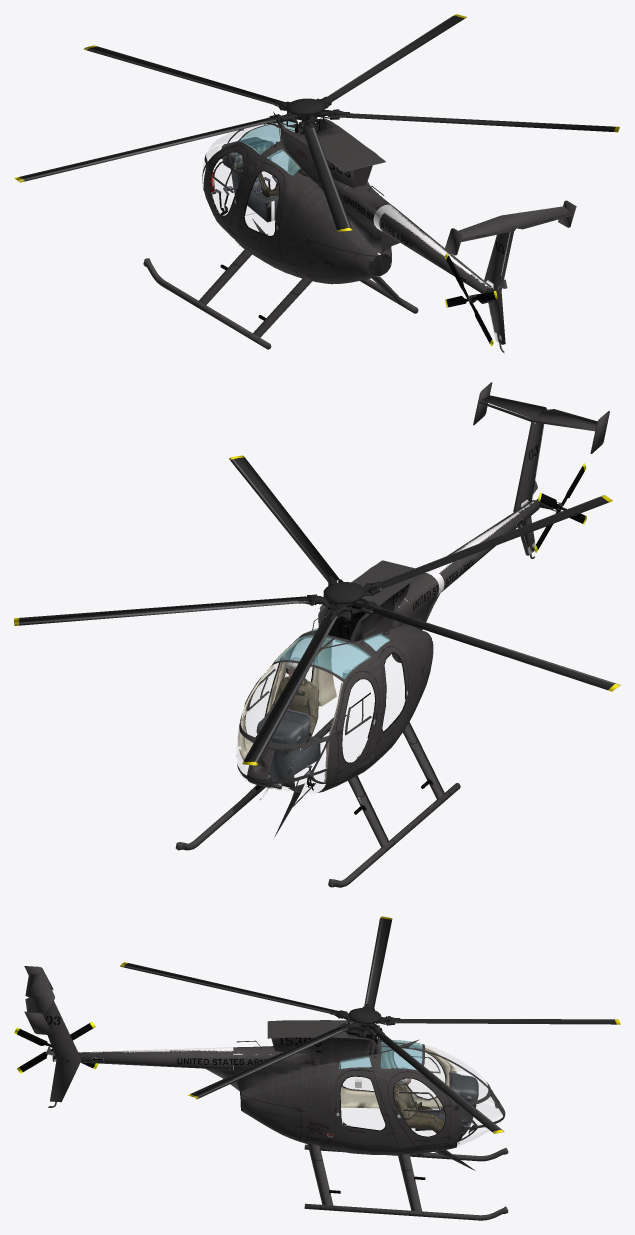
3 renders of one model, top to bottom at view 1: azimuth 30°, elevation 25°; view 2: azimuth 150°, elevation 25°; view 3: azimuth 270°, elevation 25°, orthographic. The views are drawn at different scales.
Parts seen in each view (by area): view 1: ext_fuselage1, rotor_main, ext_tail, ext_fuselage2, int_console, glasss_grn, rotor_tail, glass; view 2: rotor_main, ext_fuselage1, ext_fuselage2, ext_tail, int_fuselage1, int_console, glasss_grn, int_pilotR, glass, rotor_tail; view 3: ext_fuselage1, rotor_main, ext_tail, ext_fuselage2, int_fuselage1, glass, int_pilotR, glasss_grn, int_console, rotor_tail.
Boxes of the visible parts, x1=… form: ext_fuselage1: x1=202, y1=111, x2=391, y2=278; rotor_main: x1=14, y1=14, x2=619, y2=231; ext_tail: x1=344, y1=183, x2=576, y2=353; ext_fuselage2: x1=143, y1=118, x2=418, y2=349; int_console: x1=210, y1=137, x2=278, y2=222; glasss_grn: x1=239, y1=121, x2=299, y2=175; rotor_tail: x1=444, y1=253, x2=497, y2=346; glass: x1=203, y1=125, x2=275, y2=214; rotor_main: x1=14, y1=455, x2=620, y2=765; ext_fuselage1: x1=236, y1=579, x2=439, y2=837; ext_fuselage2: x1=175, y1=560, x2=460, y2=887; ext_tail: x1=404, y1=382, x2=609, y2=621; int_fuselage1: x1=238, y1=628, x2=405, y2=781; int_console: x1=256, y1=706, x2=327, y2=788; glasss_grn: x1=275, y1=628, x2=389, y2=678; int_pilotR: x1=269, y1=657, x2=318, y2=774; glass: x1=237, y1=663, x2=311, y2=792; rotor_tail: x1=534, y1=463, x2=586, y2=552; ext_fuselage1: x1=233, y1=1027, x2=495, y2=1170; rotor_main: x1=120, y1=916, x2=620, y2=1133; ext_tail: x1=24, y1=966, x2=281, y2=1107; ext_fuselage2: x1=240, y1=1020, x2=508, y2=1220; int_fuselage1: x1=338, y1=1040, x2=458, y2=1136; glass: x1=343, y1=1045, x2=500, y2=1146; int_pilotR: x1=393, y1=1067, x2=463, y2=1138; glasss_grn: x1=338, y1=1040, x2=422, y2=1070; int_console: x1=415, y1=1072, x2=478, y2=1135; rotor_tail: x1=14, y1=1022, x2=98, y2=1073.
Bounding box in the file's own units: 7.48 × 3.44 × 9.23.
Materials: 9 (9 with a texture image).
